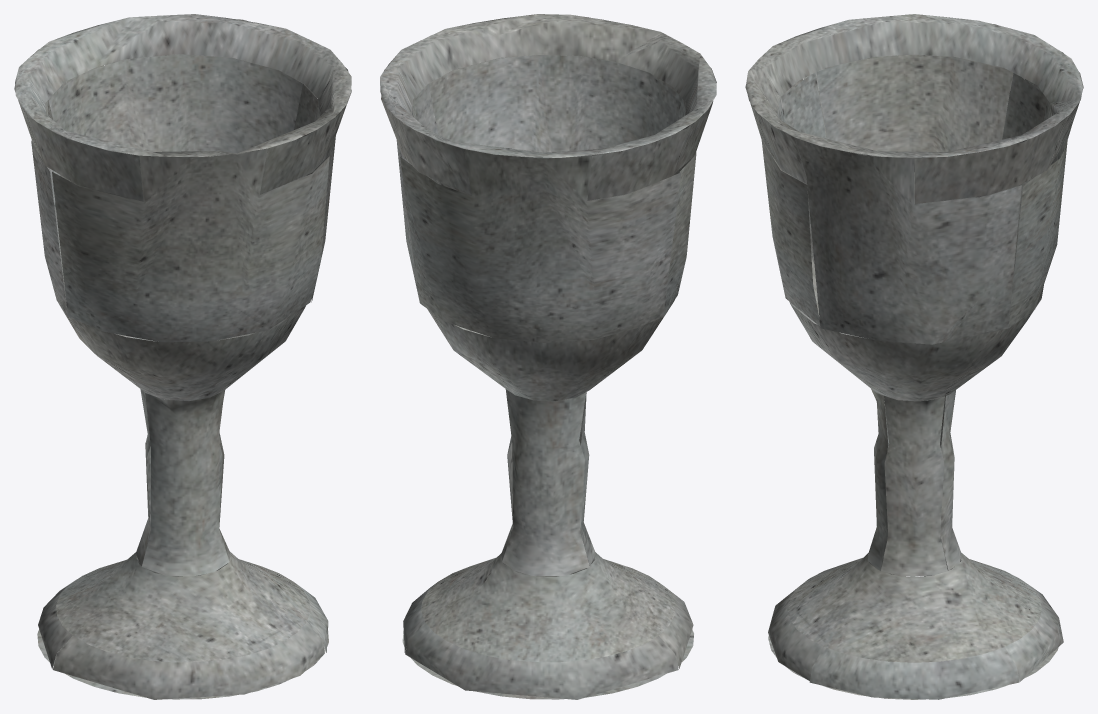
File: goblet.glb
3 views of the same model, side by side, from view 1: azimuth 30°, elevation 25°; view 2: azimuth 150°, elevation 25°; view 3: azimuth 270°, elevation 25° (orthographic).
Parts seen in each view (by area): view 1: Goblet_Iron_0; view 2: Goblet_Iron_0; view 3: Goblet_Iron_0.
Boxes of the visible parts, x1,y1,x2,y2 form: Goblet_Iron_0: (14, 14, 351, 699); Goblet_Iron_0: (380, 14, 716, 699); Goblet_Iron_0: (745, 14, 1083, 699).
Size of the model in its own units: 0.0258 by 0.0462 by 0.0256.
Materials: 1 (1 with a texture image).
